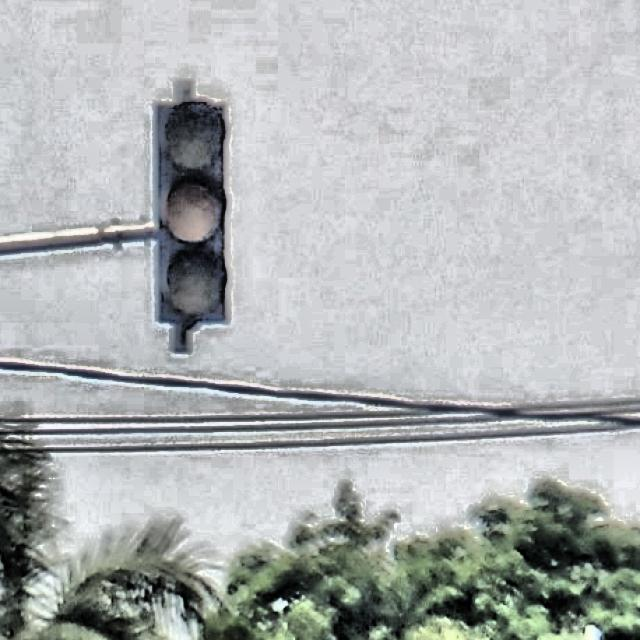yellow: (156, 99, 232, 326)
